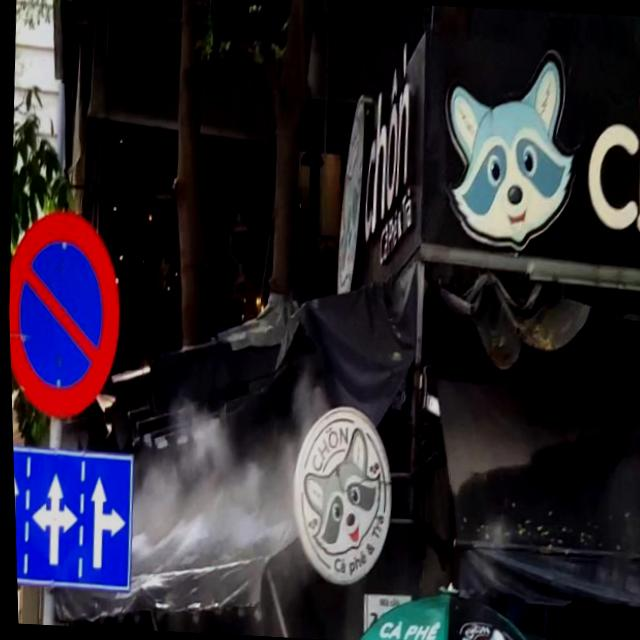Cam do xe: (5, 207, 126, 423)
